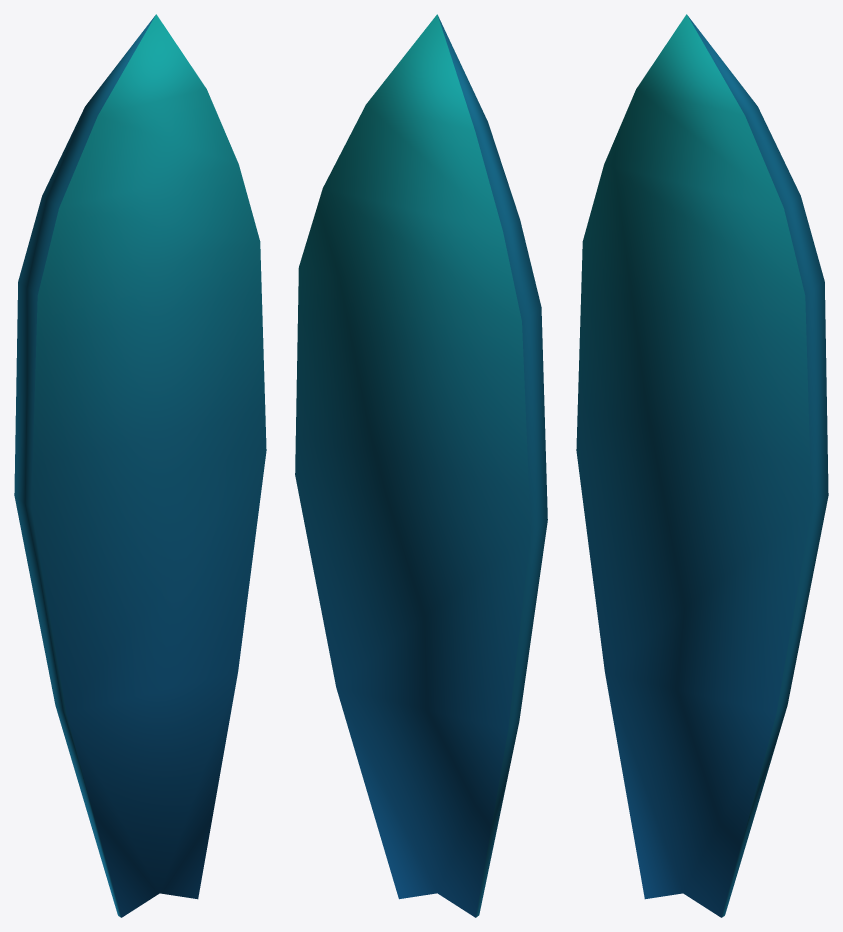
The model's file is SurfBoard_02.fbx.
3 renders of one model, left to right at view 1: azimuth 30°, elevation 25°; view 2: azimuth 150°, elevation 25°; view 3: azimuth 330°, elevation 25°, orthographic.
Parts seen in each view (by area): view 1: SurfBoard_02; view 2: SurfBoard_02; view 3: SurfBoard_02.
Part boxes in pixels (left/top/right/bottom): SurfBoard_02: left=14, top=14, right=266, bottom=917; SurfBoard_02: left=295, top=14, right=547, bottom=917; SurfBoard_02: left=576, top=14, right=828, bottom=917.
Size of the model in its own units: 0.1975 by 0.716 by 0.0442.
